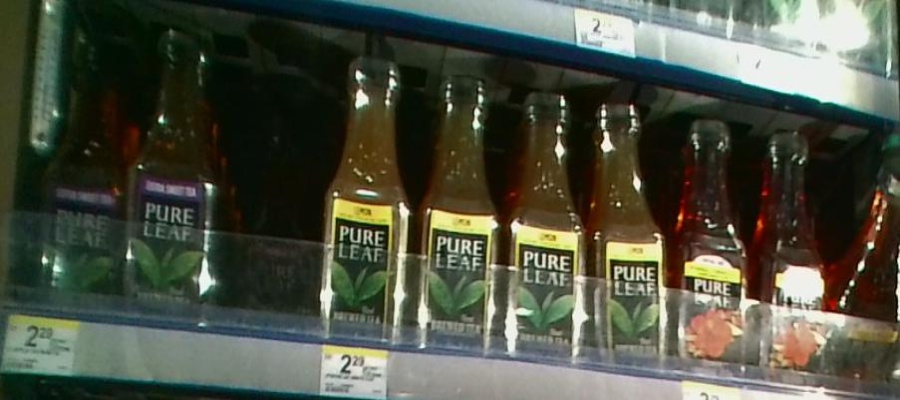bottle: (322, 58, 414, 346), (124, 24, 213, 316), (503, 74, 590, 362), (417, 58, 499, 355), (39, 30, 123, 308), (593, 95, 670, 372), (676, 104, 750, 368), (752, 121, 826, 377), (839, 163, 900, 345)
